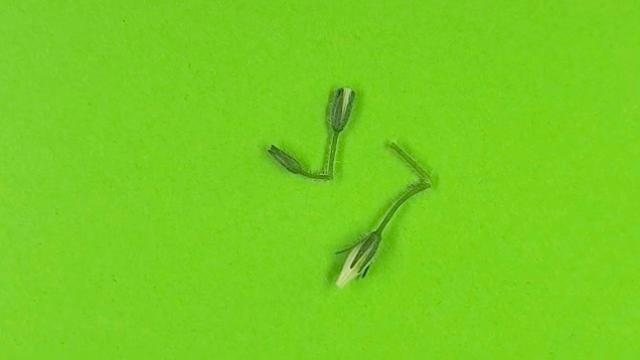Flower Bud: (335, 231, 380, 289), (266, 144, 311, 177), (328, 87, 355, 131)
